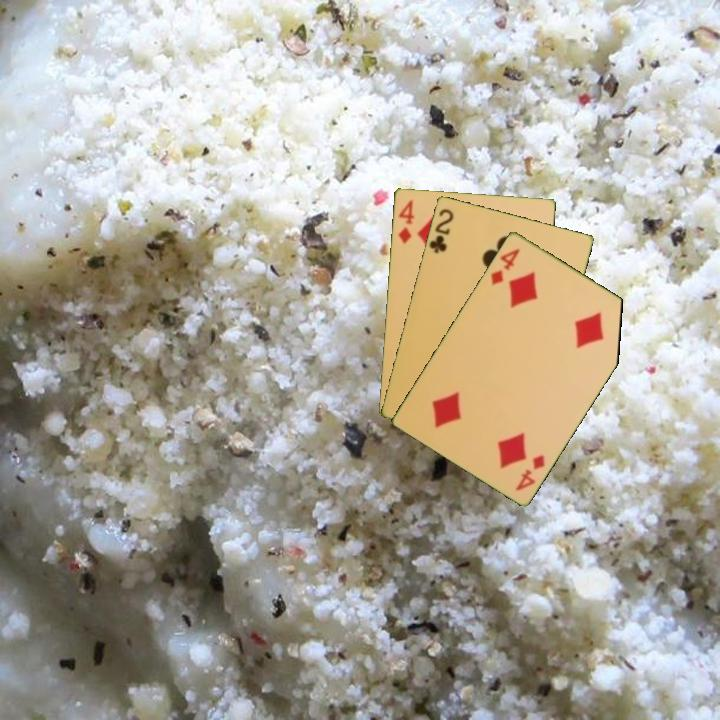2c: (426, 205, 456, 256)
4d: (487, 244, 523, 288), (512, 451, 548, 494), (395, 196, 417, 246)
